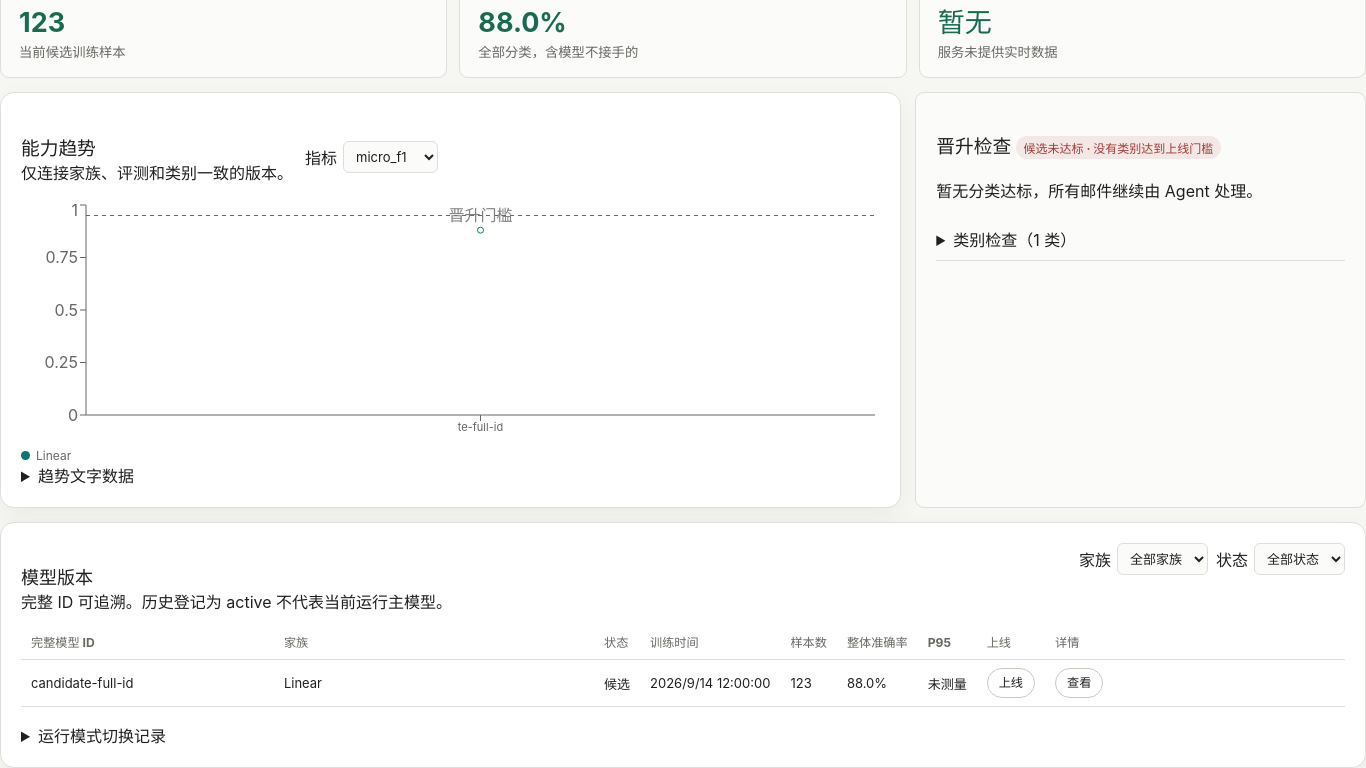
Scenario: keeps structured effect, data coverage, and technical evidence in Chinese detail tabs
(page scrolled)
Click the button with aria-label "查看 candidate-full-id". click: x=1079, y=683
box: [1055,668,1103,698]
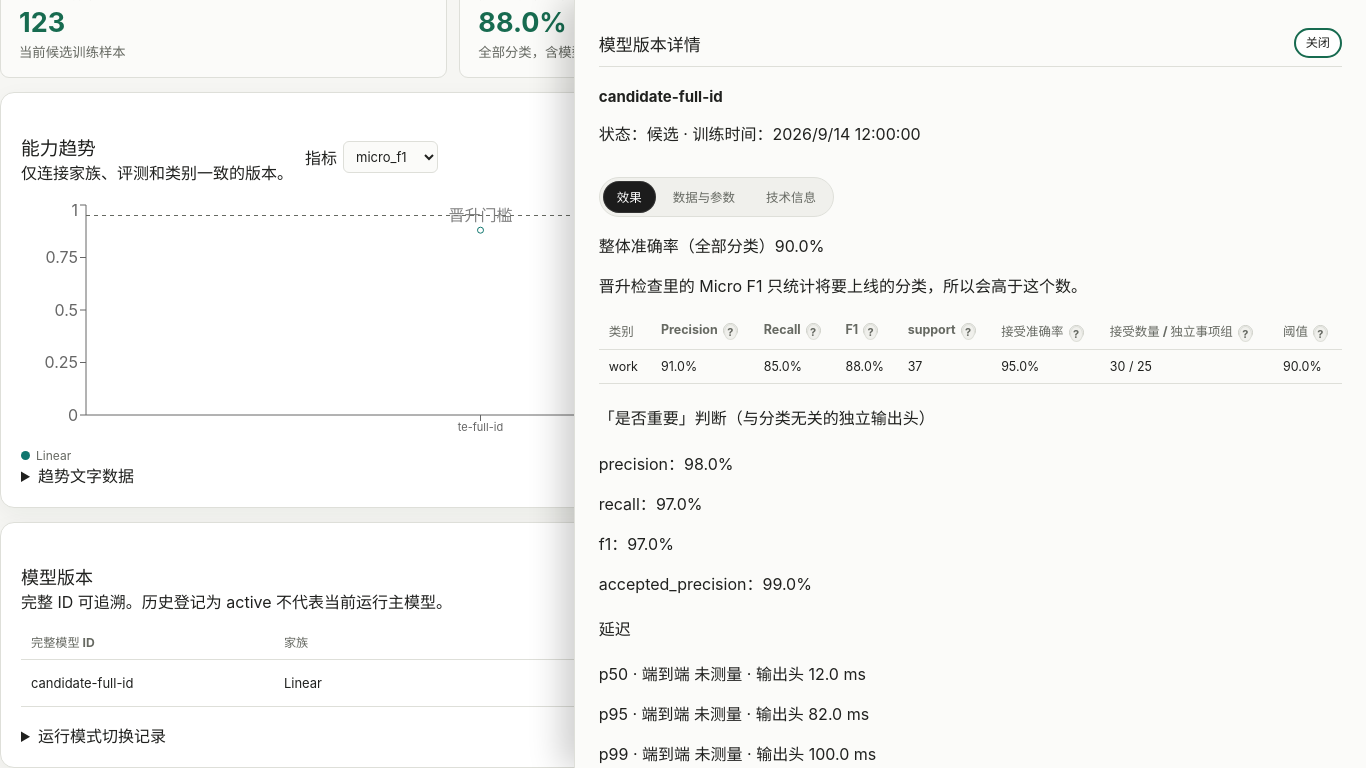
Expected: the dialog "模型版本详情" shows "「是否重要」判断（与分类无关的独立输出头）", [599,408,935,428]
Expected: the dialog "模型版本详情" shows "整体准确率（全部分类）", [599,236,775,256]
Expected: the dialog "模型版本详情" shows "30 / 25", [574,0,1365,767]
Click the tab "数据与参数". click: x=704, y=197
box: [659,181,749,213]
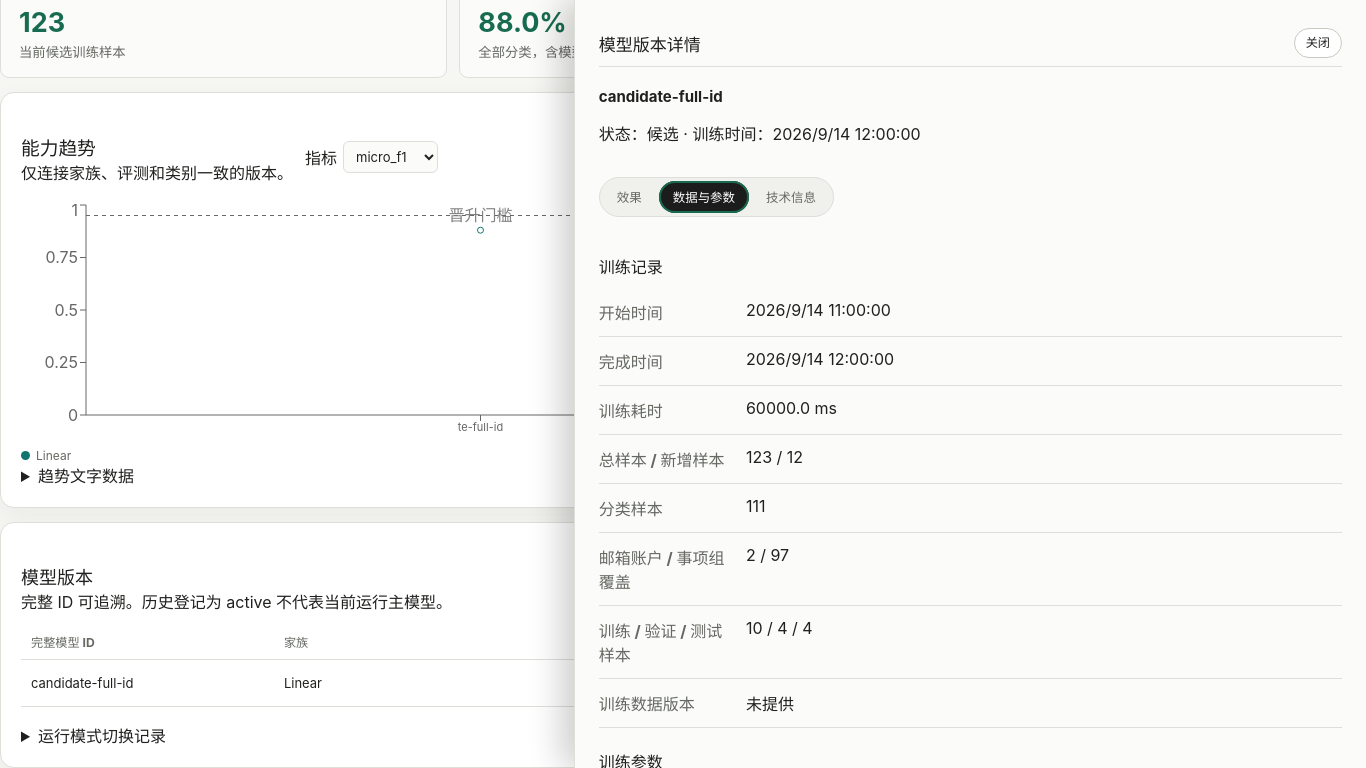
Expected: the dialog "模型版本详情" shows "训练耗时", [599,400,663,420]
Expected: the dialog "模型版本详情" shows "2 / 97", [746,544,789,564]
Click the tab "技术信息". click: x=791, y=197
box: [752,181,830,213]
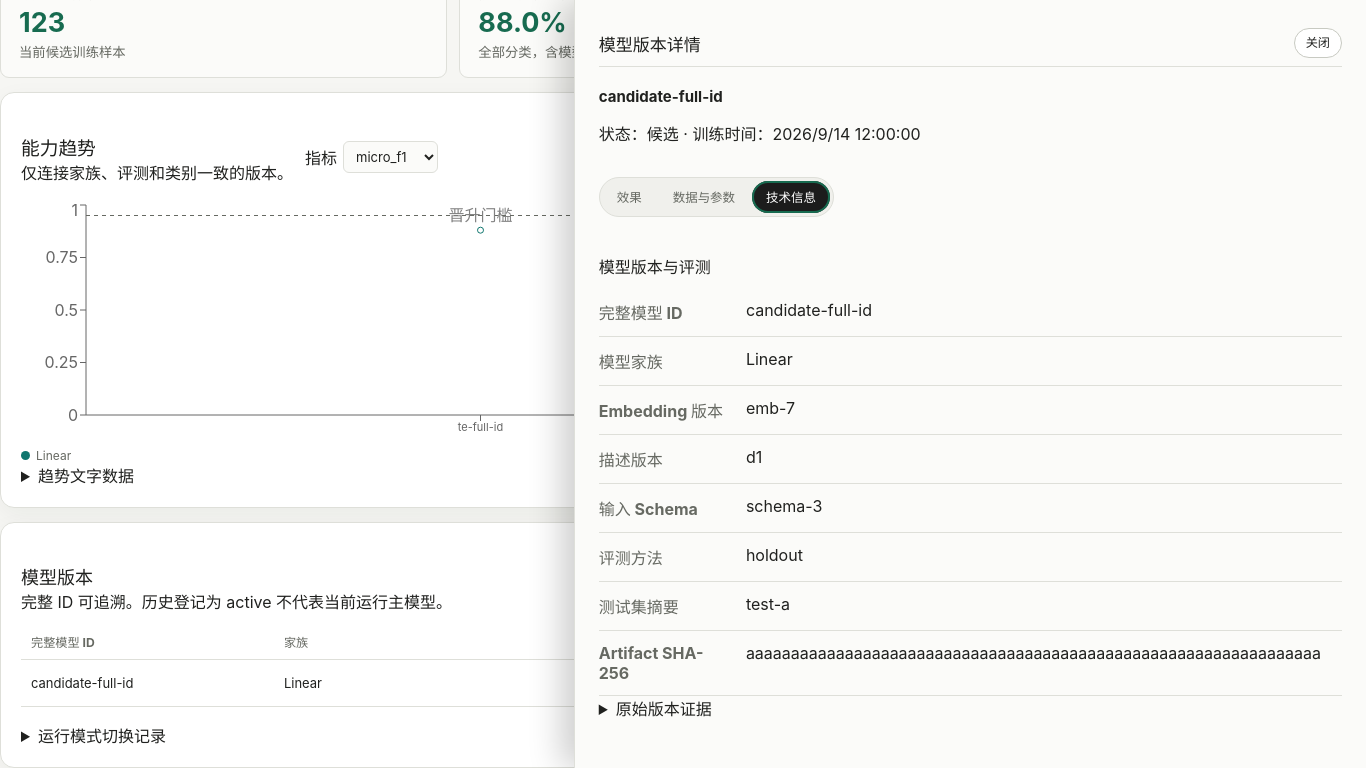
Expected: the dialog "模型版本详情" shows "emb-7", [746,398,795,418]
Expected: the dialog "模型版本详情" shows "schema-3", [746,496,822,516]
